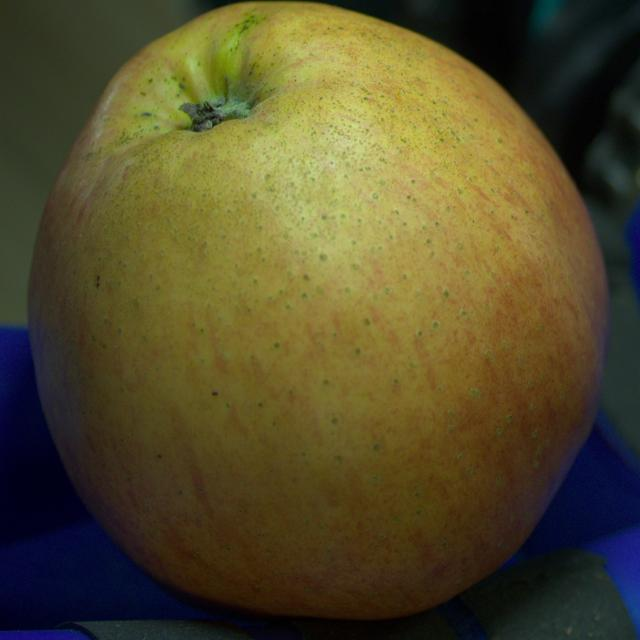apple: (29, 2, 607, 618)
